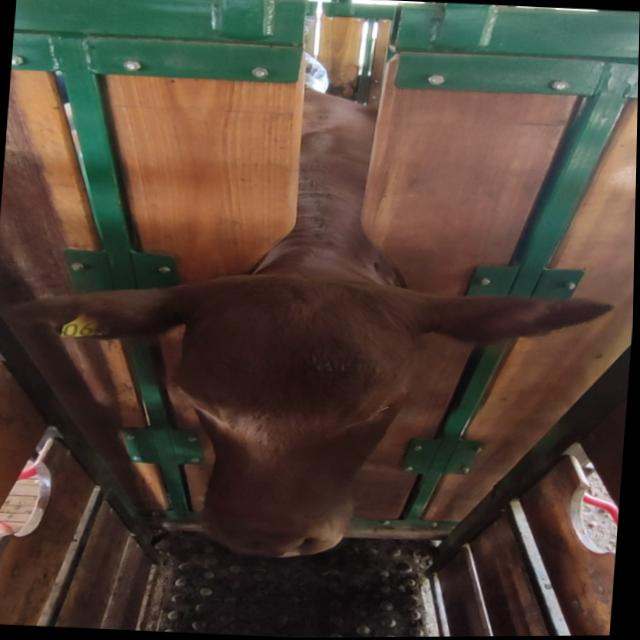cowFace: (168, 271, 424, 562)
